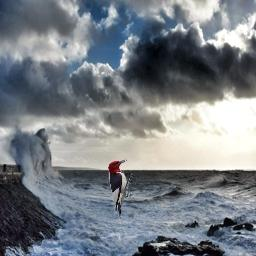Woodpecker: (108, 159, 133, 219)
